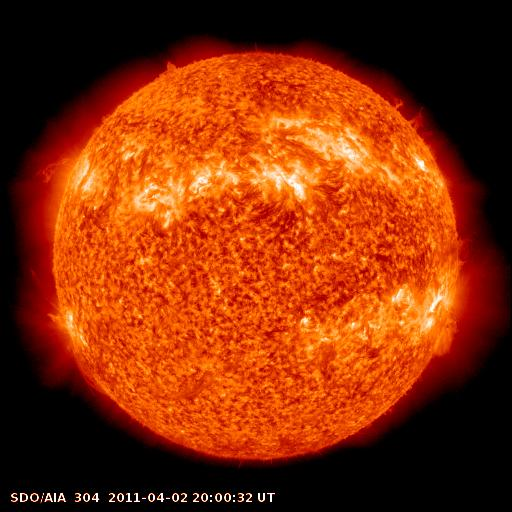prominence: (381, 85, 442, 147), (60, 347, 117, 400), (17, 262, 68, 315), (31, 143, 87, 187), (447, 225, 484, 274), (428, 319, 467, 363), (146, 50, 191, 84)
